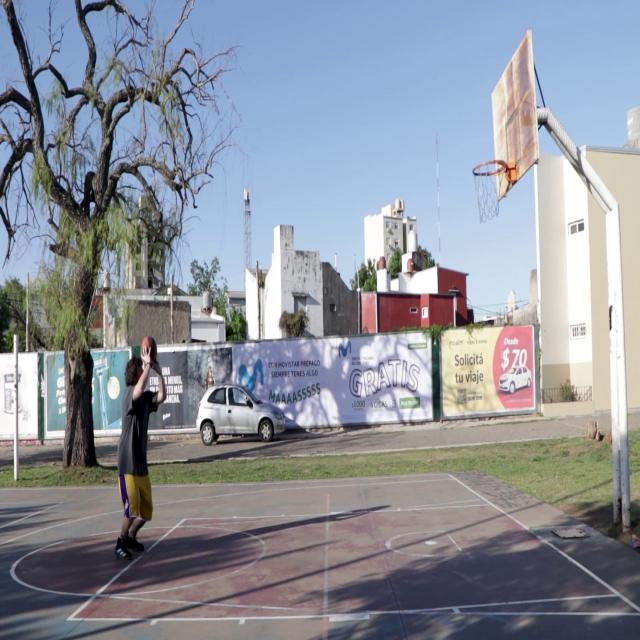ball: (141, 336, 157, 364)
